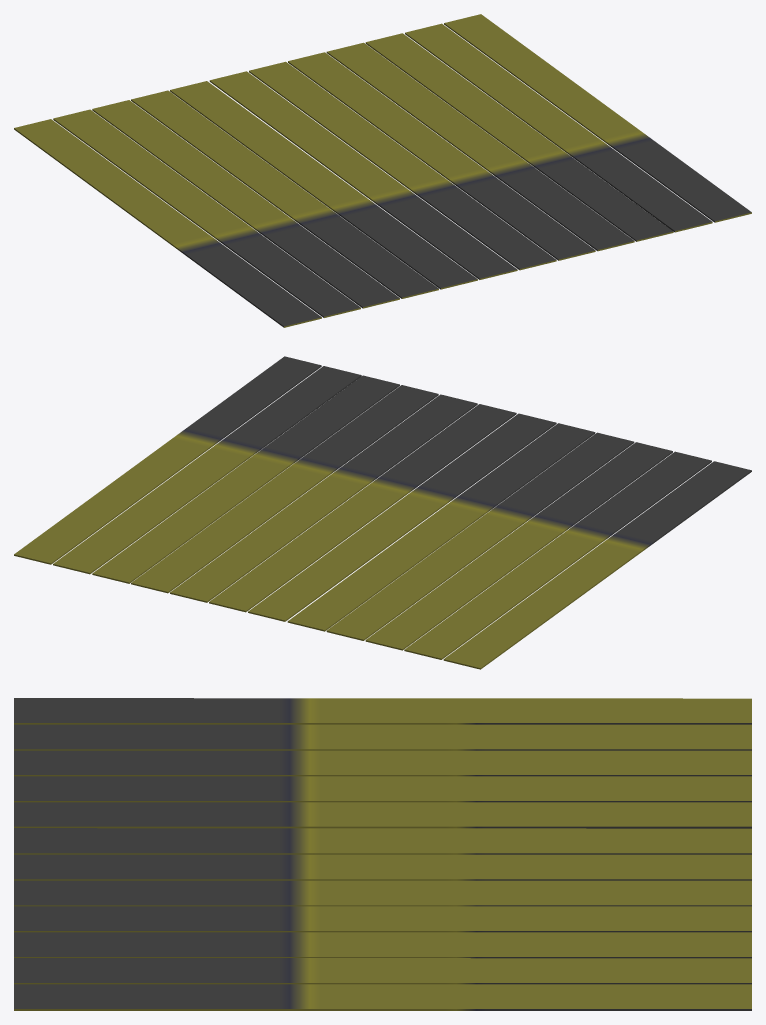
The model's file is Kitchen_2_Boards.fbx.
3 views of the same model, one above another, from view 1: azimuth 30°, elevation 25°; view 2: azimuth 150°, elevation 25°; view 3: azimuth 270°, elevation 25° (orthographic). The views are drawn at different scales.
Visible parts, largest first — view 1: Kitchen_2_Boards; view 2: Kitchen_2_Boards; view 3: Kitchen_2_Boards.
Boxes of the visible parts, x1,y1,x2,y2 form: Kitchen_2_Boards: (14,14,751,327); Kitchen_2_Boards: (14,356,751,669); Kitchen_2_Boards: (14,698,751,1010).
Bounding box in the file's own units: 488 × 1.41 × 489.
